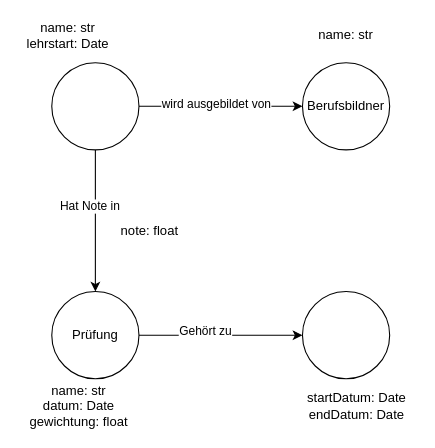
Some shapes in this 435 by 448 pixel diagram are drawn without their labels. Here are the shapes that lost their labels. From the top down, the centre of each, then its label:
At (95,106): "Lernender".
At (345,334): "Semester".
